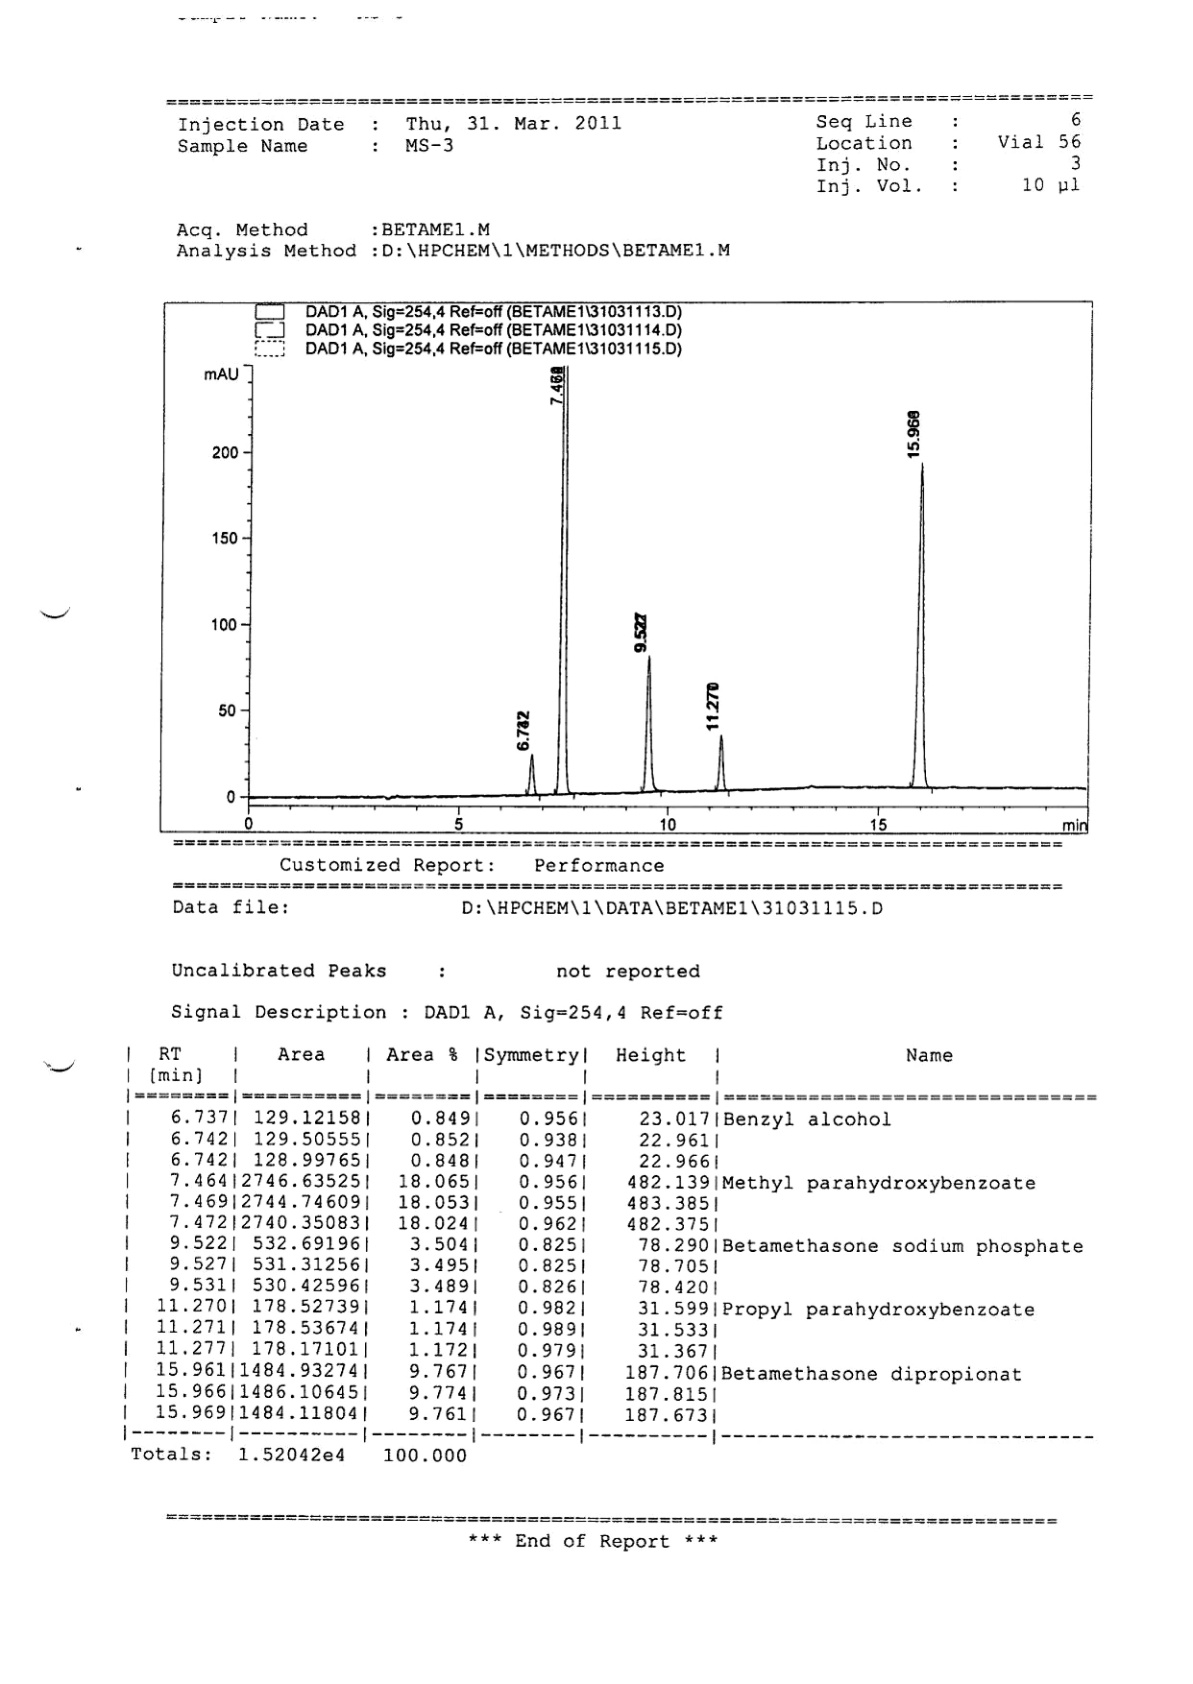nolines: (811, 110, 1086, 198), (173, 110, 634, 161)
partial_lined: (121, 1042, 1096, 1468)
